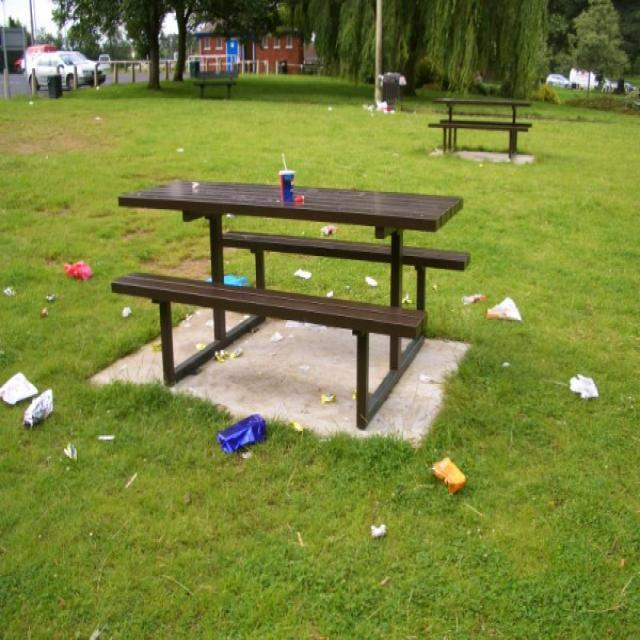trash: (3, 366, 61, 433), (422, 446, 480, 498), (463, 283, 528, 327), (221, 406, 263, 451), (567, 366, 605, 408), (204, 260, 247, 290), (60, 249, 95, 284), (212, 340, 254, 365), (31, 288, 63, 317), (361, 517, 393, 541), (321, 386, 342, 409), (287, 416, 307, 437), (116, 299, 134, 319)
